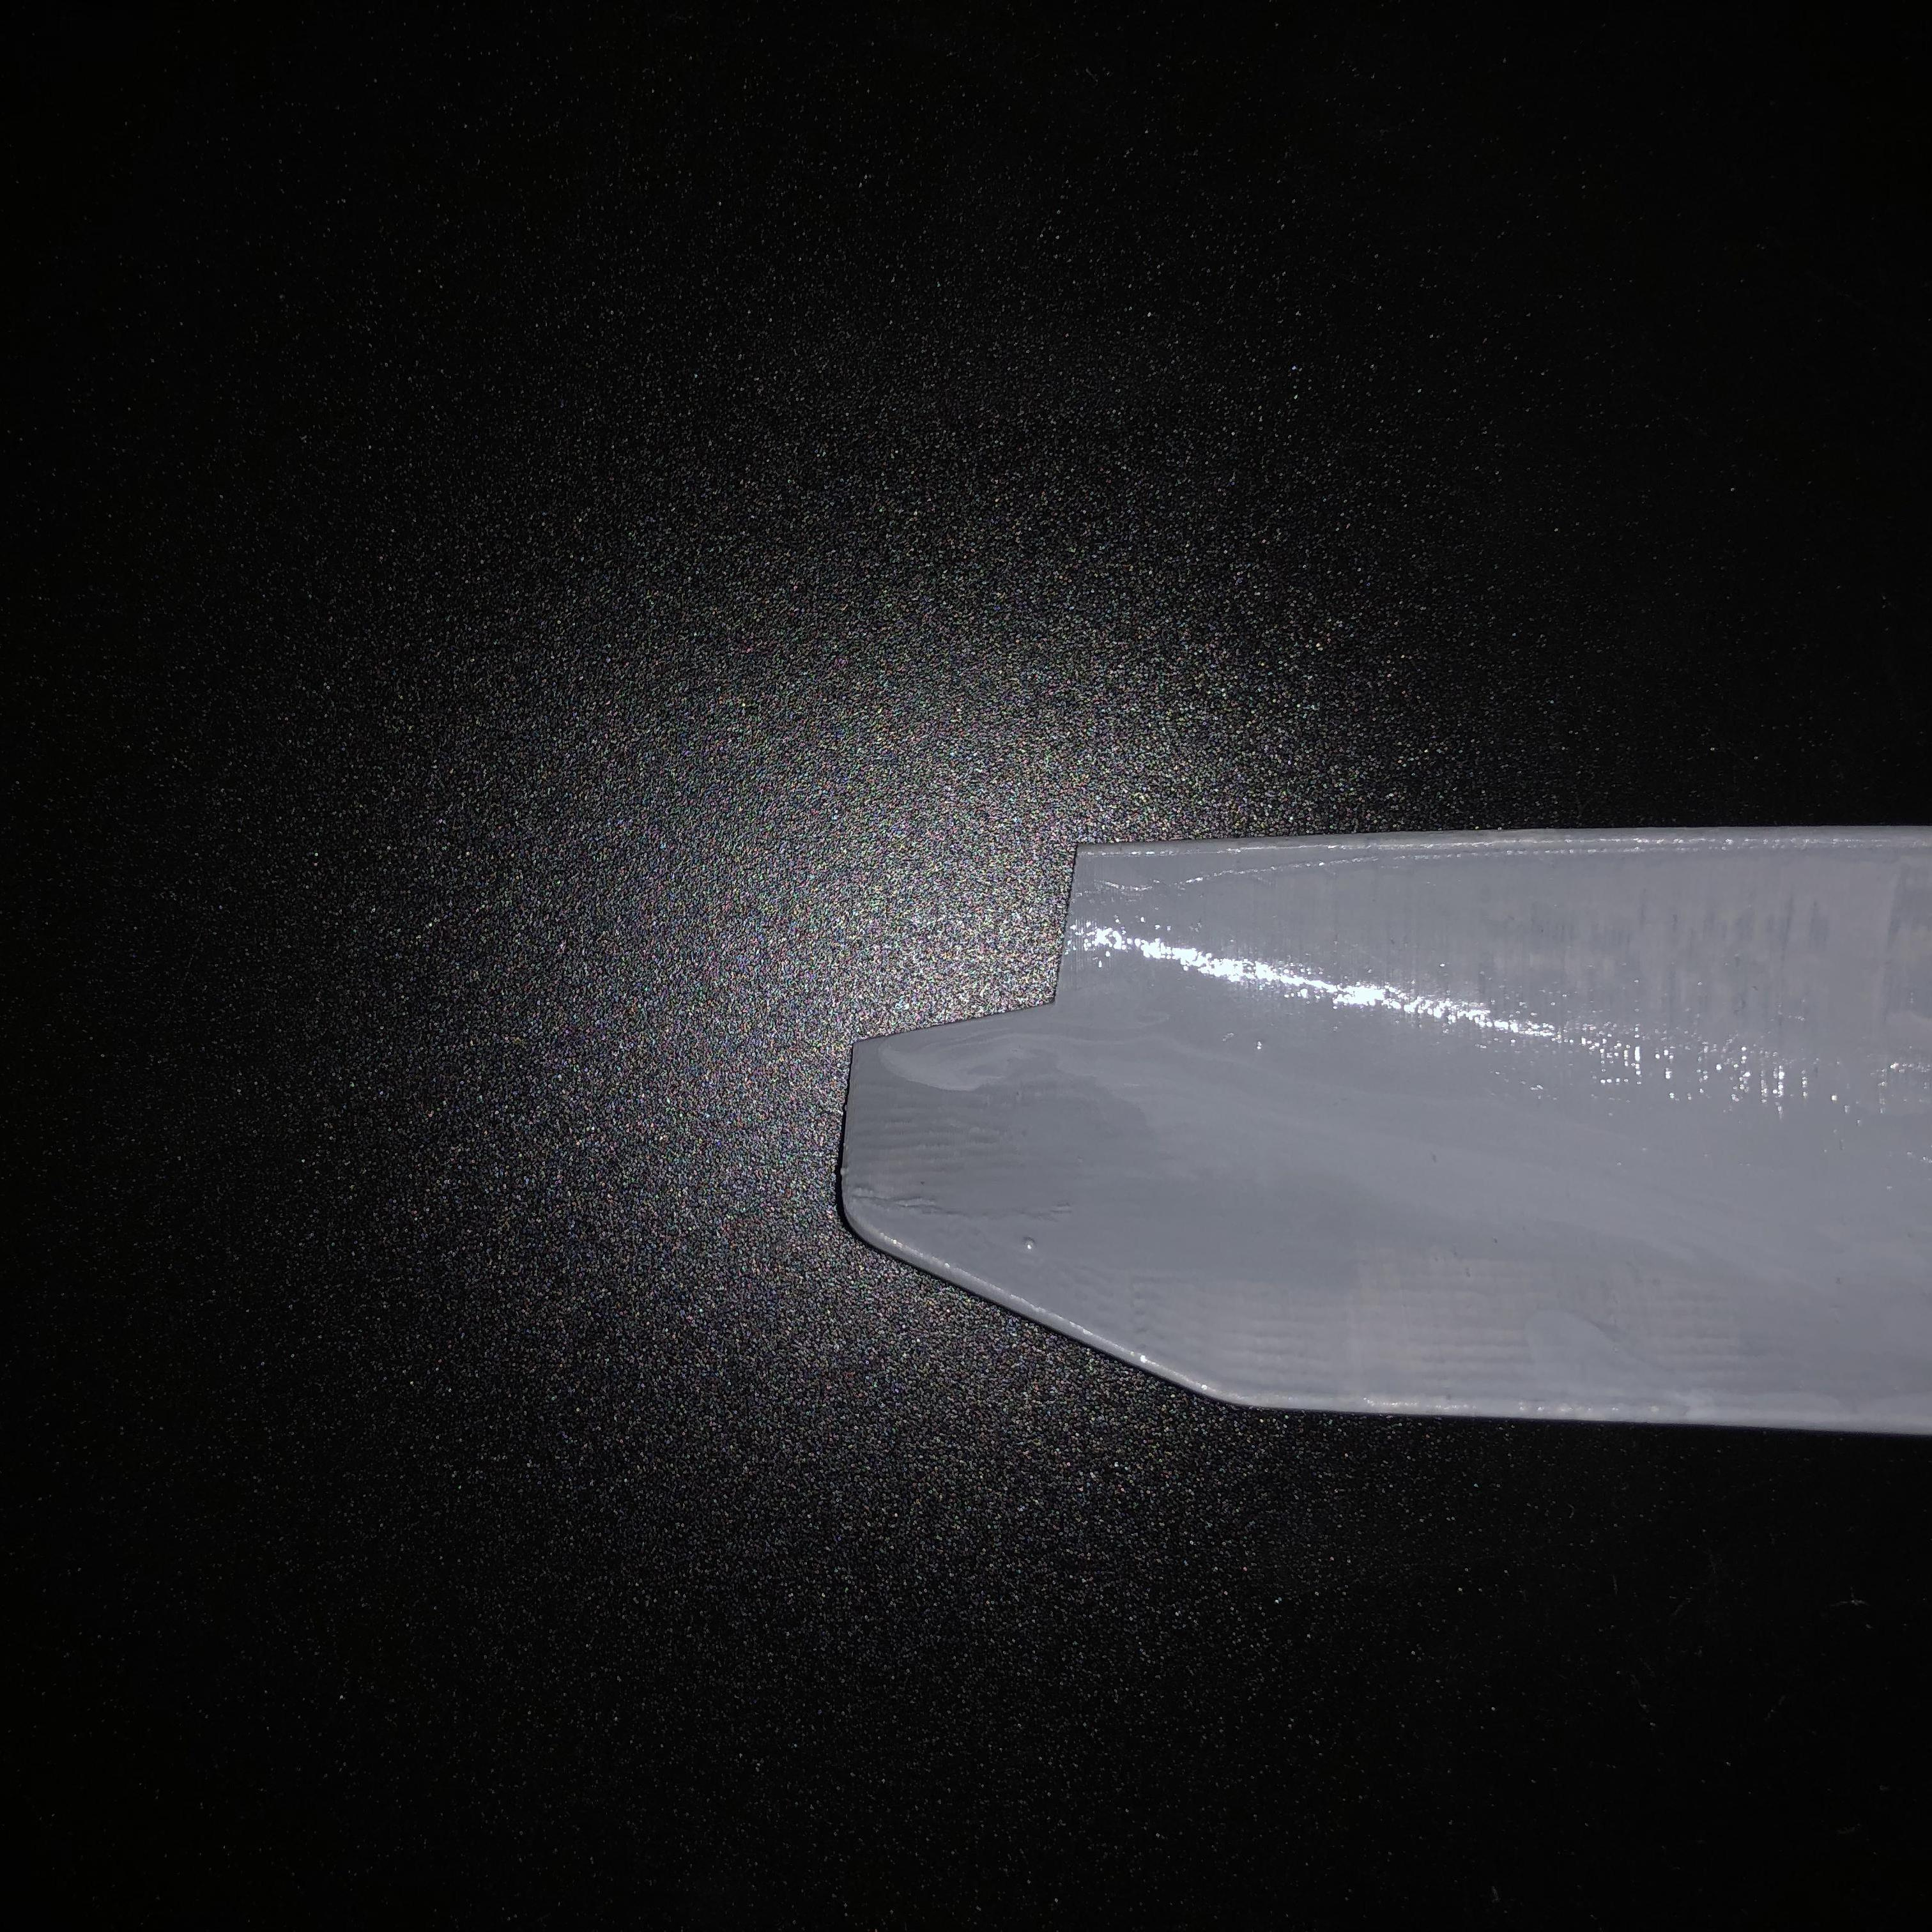fracture: (853, 863, 1131, 1076)
